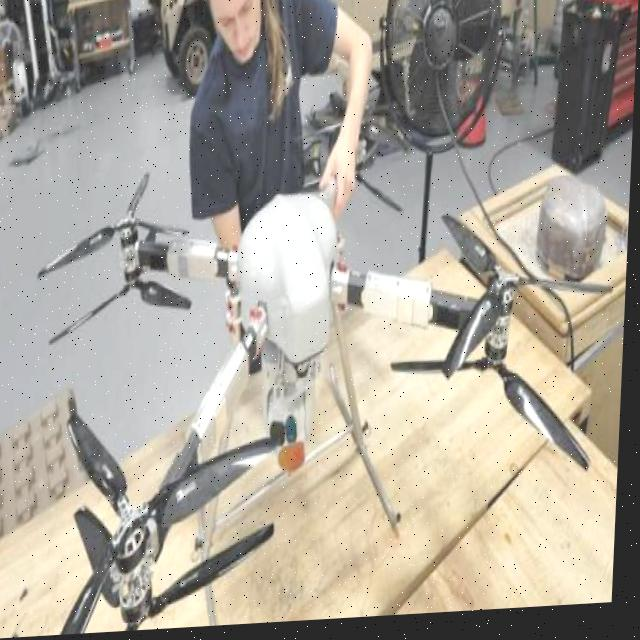drone: (26, 122, 625, 604)
